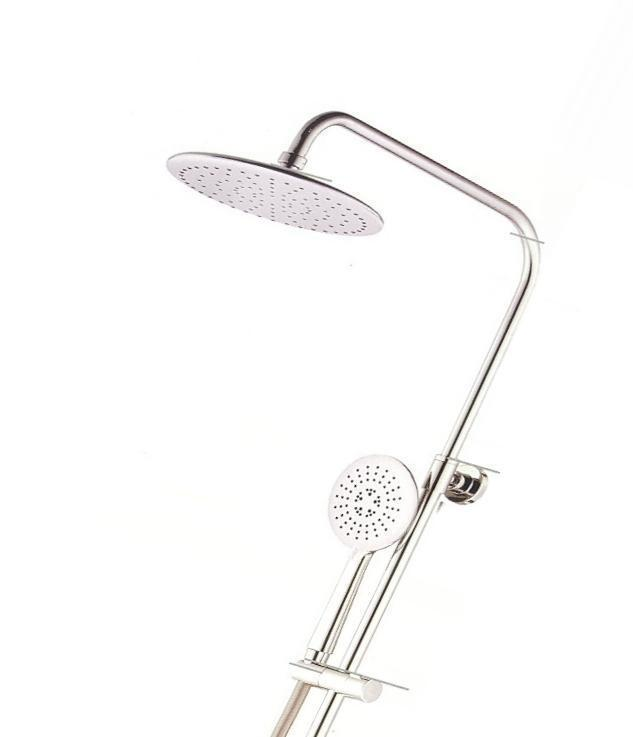Ducha: (140, 93, 532, 736)
